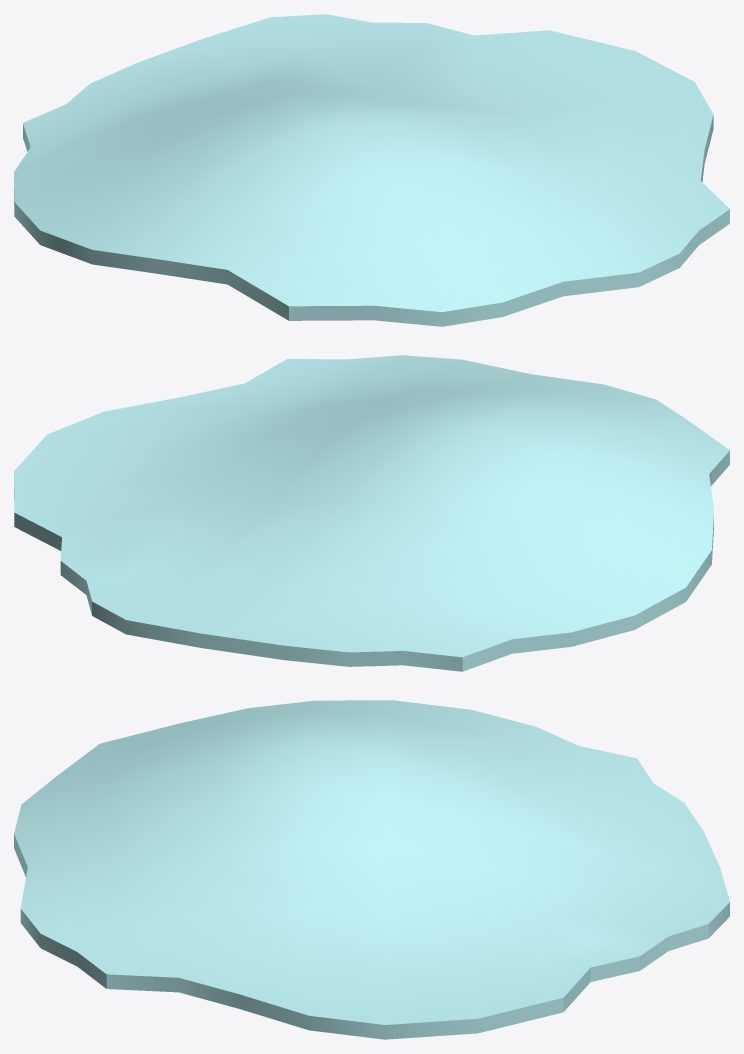
File: snowpile.fbx
3 renders of one model, top to bottom at view 1: azimuth 30°, elevation 25°; view 2: azimuth 150°, elevation 25°; view 3: azimuth 270°, elevation 25°, orthographic.
Visible parts, largest first — view 1: snowpile; view 2: snowpile; view 3: snowpile.
Part boxes in pixels (left/top/right/bottom): snowpile: left=14, top=14, right=729, bottom=326; snowpile: left=14, top=355, right=729, bottom=671; snowpile: left=14, top=700, right=729, bottom=1039.
Size of the model in its own units: 647 by 89.94 by 616.
